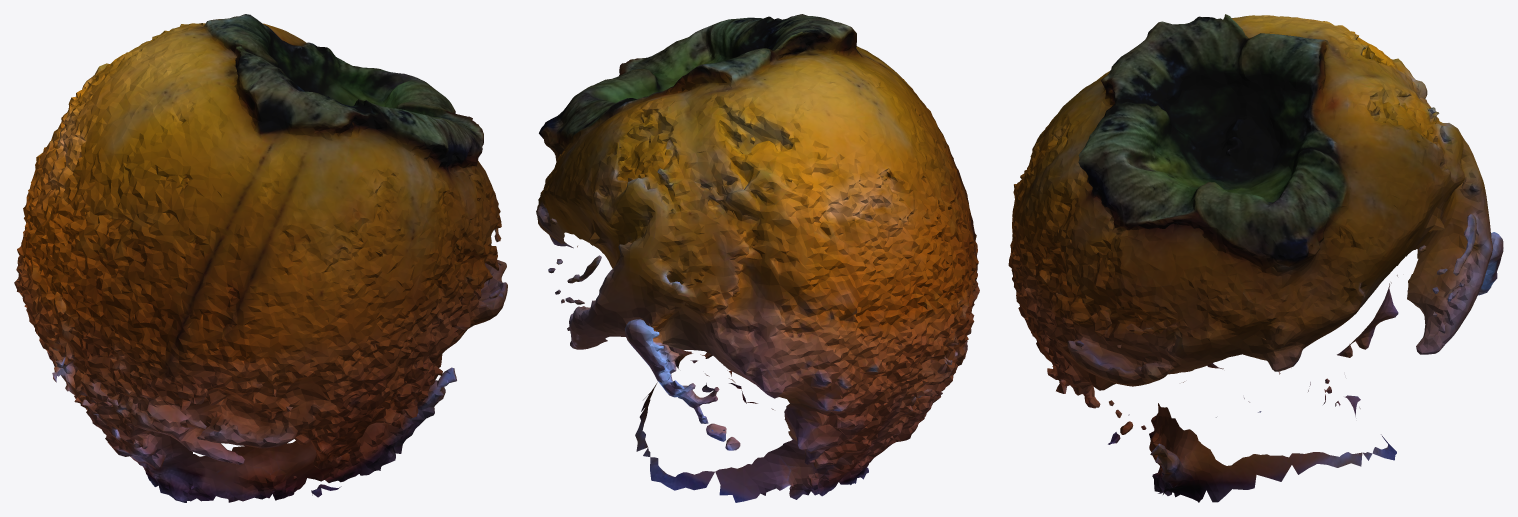
File: fruitmodelo.glb
3 views of the same model, side by side, from view 1: azimuth 30°, elevation 25°; view 2: azimuth 150°, elevation 25°; view 3: azimuth 270°, elevation 25° (orthographic).
Bounding box in the file's own units: 1.72 × 1.74 × 1.78.
1 material, 1 textured.
